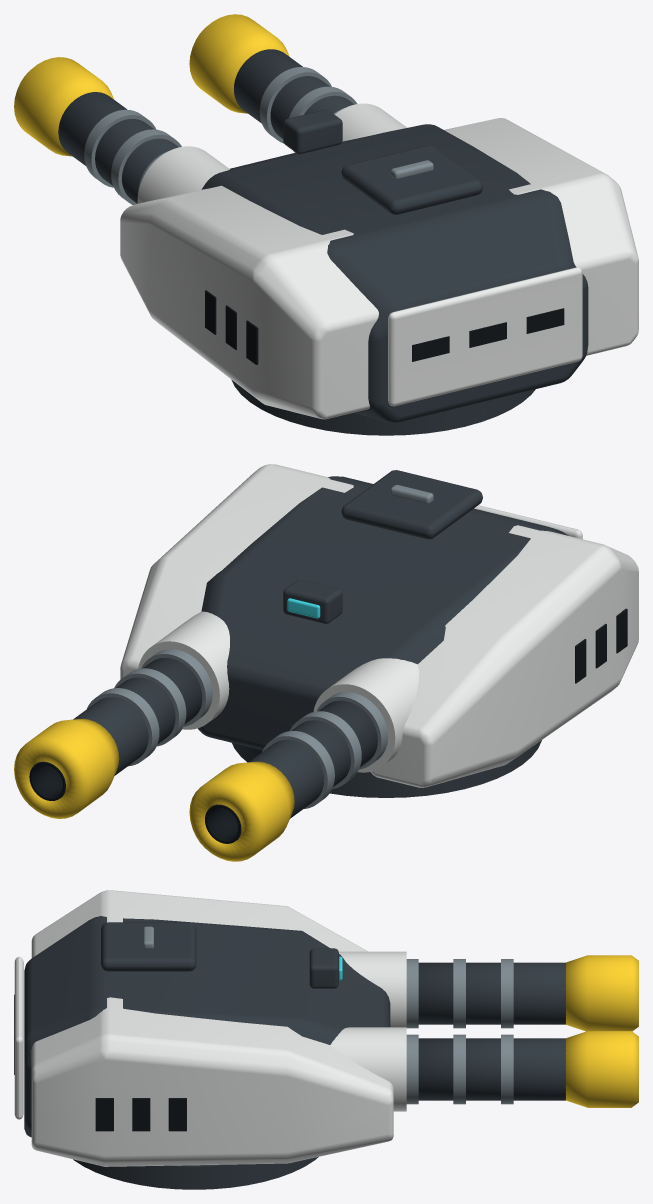
File: autocannon.glb
The picture shows the model from 3 angles, top to bottom: view 1: azimuth 30°, elevation 25°; view 2: azimuth 150°, elevation 25°; view 3: azimuth 270°, elevation 25°; orthographic projection. The views are drawn at different scales.
Visible parts, largest first — view 1: Batch_109 porcelain, Batch_109 mechanism, Batch_109 mechanism.001, Batch_109 yellow.001, Batch_109 yellow, Batch_109 mechanism.002, Batch_109 recess, Batch_109 porcelain.001, Batch_109 steel.001, Batch_109 steel.002, Batch_109 porcelain.002; view 2: Batch_109 mechanism, Batch_109 porcelain, Batch_109 yellow, Batch_109 yellow.001, Batch_109 mechanism.001, Batch_109 mechanism.002, Batch_109 porcelain.001, Batch_109 porcelain.002, Batch_109 steel.002, Batch_109 steel.001, Batch_109 recess, Batch_109 recess.001 (+1 smaller); view 3: Batch_109 porcelain, Batch_109 mechanism, Batch_109 mechanism.002, Batch_109 mechanism.001, Batch_109 yellow.001, Batch_109 yellow, Batch_109 porcelain.002, Batch_109 steel.002, Batch_109 steel.001, Batch_109 porcelain.001, Batch_109 recess.
Part boxes in pixels (x1,y1,x2,y2): Batch_109 porcelain: (120,118,638,419); Batch_109 mechanism: (201,109,588,435); Batch_109 mechanism.001: (58,92,178,203); Batch_109 yellow.001: (189,14,289,113); Batch_109 yellow: (14,57,113,156); Batch_109 mechanism.002: (233,49,354,138); Batch_109 recess: (205,290,564,364); Batch_109 porcelain.001: (137,146,229,203); Batch_109 steel.001: (84,109,181,204); Batch_109 steel.002: (259,67,357,152); Batch_109 porcelain.002: (334,103,406,141); Batch_109 mechanism: (198,470,568,797); Batch_109 porcelain: (120,464,638,787); Batch_109 yellow: (189,761,294,861); Batch_109 yellow.001: (14,718,119,818); Batch_109 mechanism.001: (249,700,377,818); Batch_109 mechanism.002: (73,658,202,775); Batch_109 porcelain.001: (313,658,418,772); Batch_109 porcelain.002: (138,611,229,729); Batch_109 steel.002: (87,649,212,766); Batch_109 steel.001: (262,692,388,808); Batch_109 recess: (575,608,627,683); Batch_109 recess.001: (205,804,241,843); Batch_109 porcelain: (14,890,393,1166); Batch_109 mechanism: (24,916,390,1189); Batch_109 mechanism.002: (418,1038,565,1100); Batch_109 mechanism.001: (418,962,565,1024); Batch_109 yellow.001: (565,1031,638,1107); Batch_109 yellow: (565,955,638,1031); Batch_109 porcelain.002: (330,1027,406,1111); Batch_109 steel.002: (406,1034,513,1104); Batch_109 steel.001: (406,959,513,1028); Batch_109 porcelain.001: (339,951,406,1027); Batch_109 recess: (14,994,186,1131).
Size of the model in its own units: 1.04 by 0.594 by 1.71.
